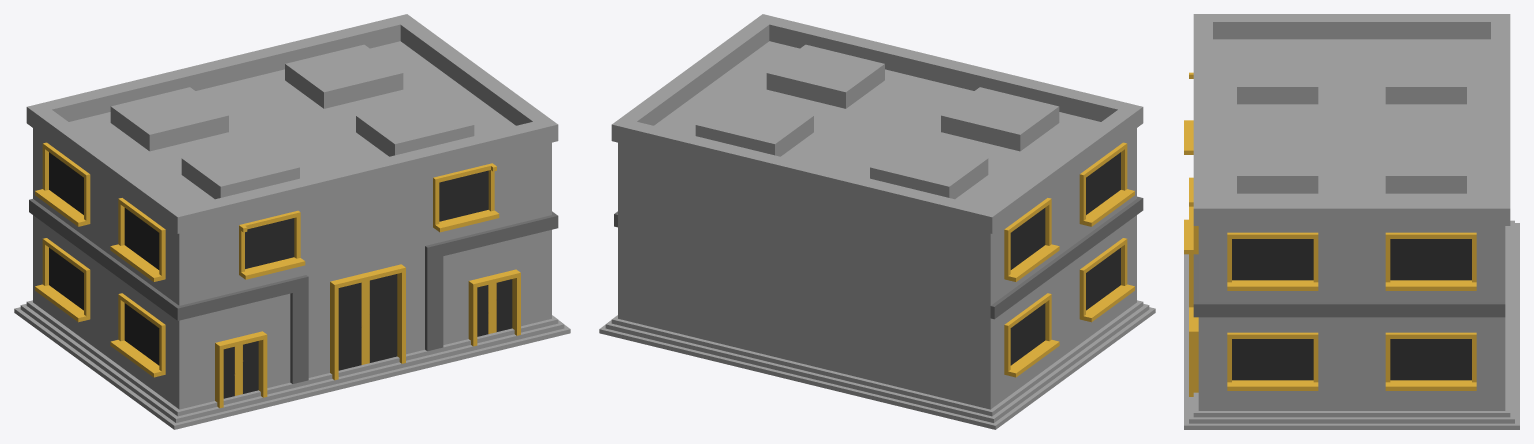
File: Building_6.fbx
3 views of the same model, side by side, from view 1: azimuth 30°, elevation 25°; view 2: azimuth 150°, elevation 25°; view 3: azimuth 270°, elevation 25° (orthographic). The views are drawn at different scales.
Visible parts, largest first — view 1: Building_6; view 2: Building_6; view 3: Building_6.
Boxes of the visible parts, <box> form: Building_6: <box>14,14,570,429</box>; Building_6: <box>599,14,1155,429</box>; Building_6: <box>1184,14,1519,429</box>.
Size of the model in its own units: 100 by 50 by 70.
Materials: 1 (1 with a texture image).
